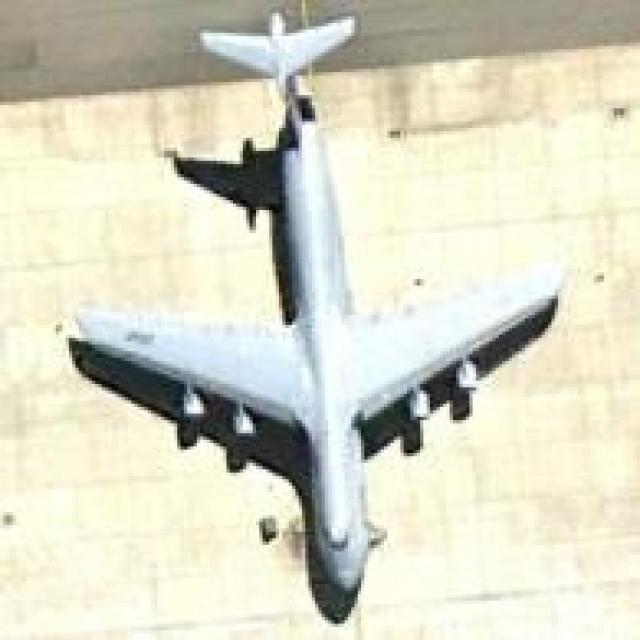C-5_TopDown: (66, 9, 564, 621)
